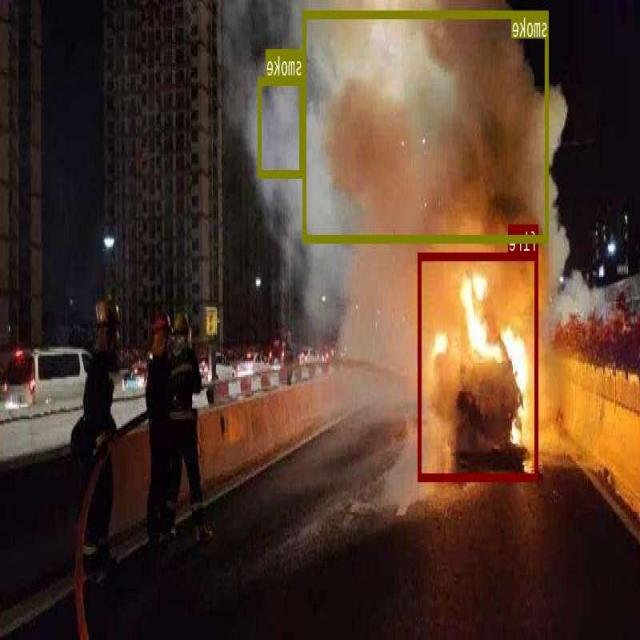fire: (419, 251, 539, 480)
smoke: (303, 10, 549, 241), (259, 76, 303, 177)
